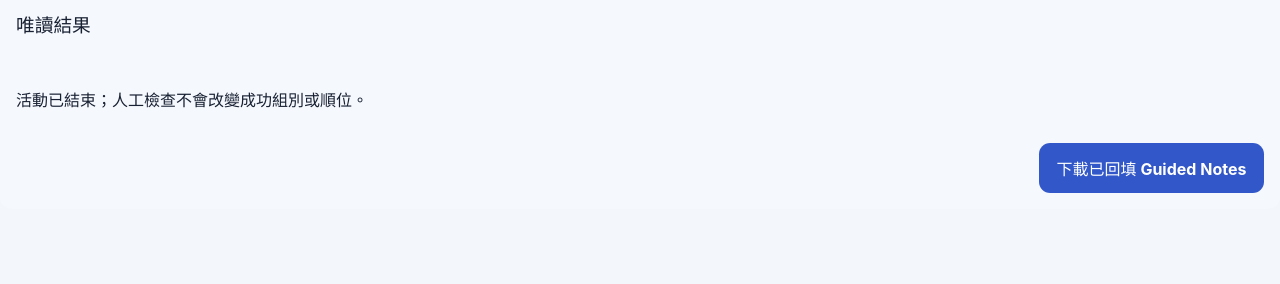
Test case: 老師 Guided Notes 匯入介面 › 老師匯出失敗時顯示伺服器錯誤且不觸發下載
Click the button "下載已回填 Guided Notes".
click(1152, 168)  # box [1039,143,1264,193]
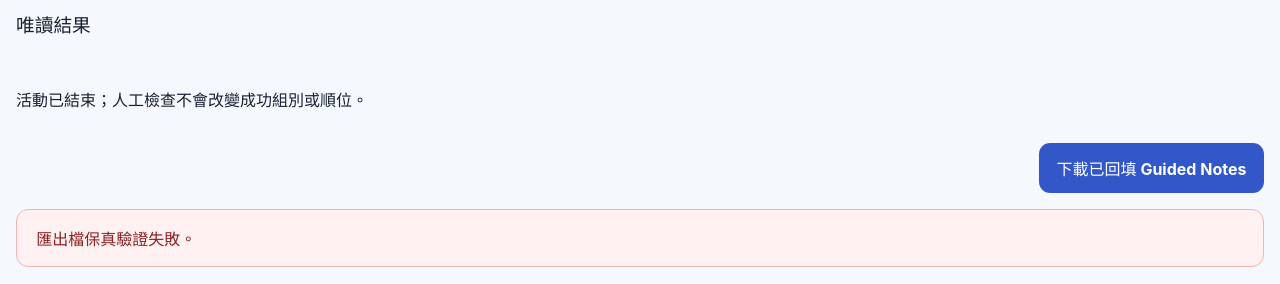
Check: the message reads "匯出檔保真驗證失敗。", box [36,229,196,249]
